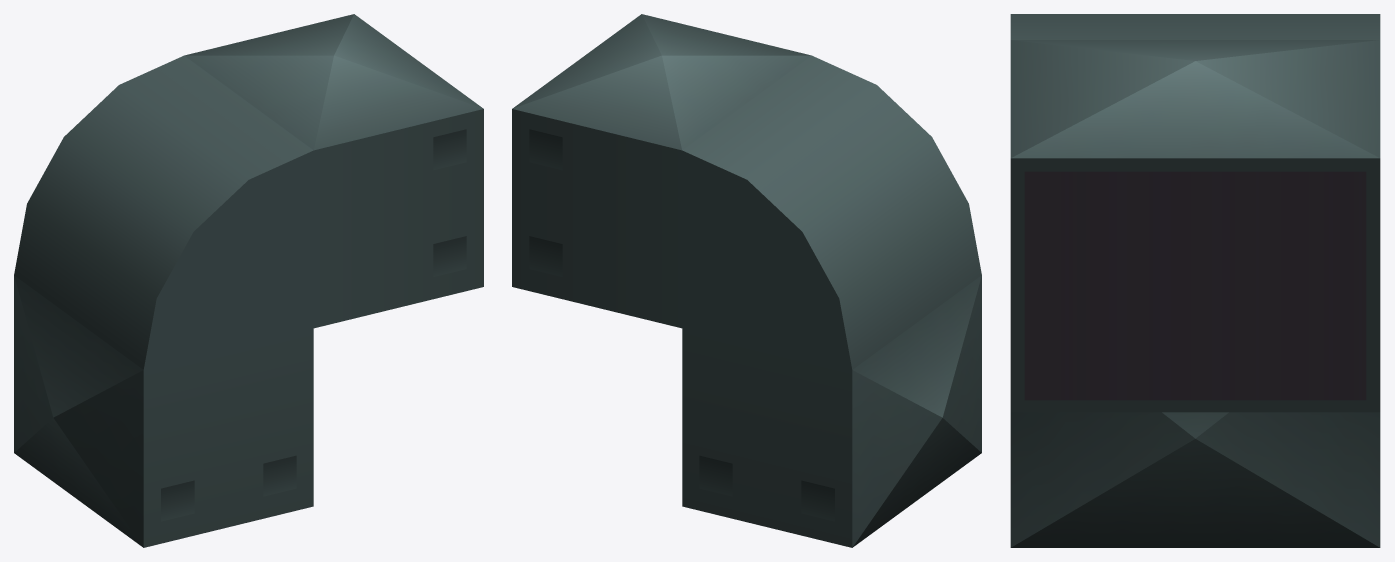
File: Air_Vent_3B.fbx
3 views of the same model, side by side, from view 1: azimuth 30°, elevation 25°; view 2: azimuth 150°, elevation 25°; view 3: azimuth 270°, elevation 25° (orthographic). The views are drawn at different scales.
Parts seen in each view (by area): view 1: Air_Vent_3B; view 2: Air_Vent_3B; view 3: Air_Vent_3B.
Boxes of the visible parts, <box> form: Air_Vent_3B: <box>14,14,483,547</box>; Air_Vent_3B: <box>512,14,981,547</box>; Air_Vent_3B: <box>1010,14,1380,547</box>.
Bounding box in the file's own units: 2.16 × 2.15 × 1.32.
